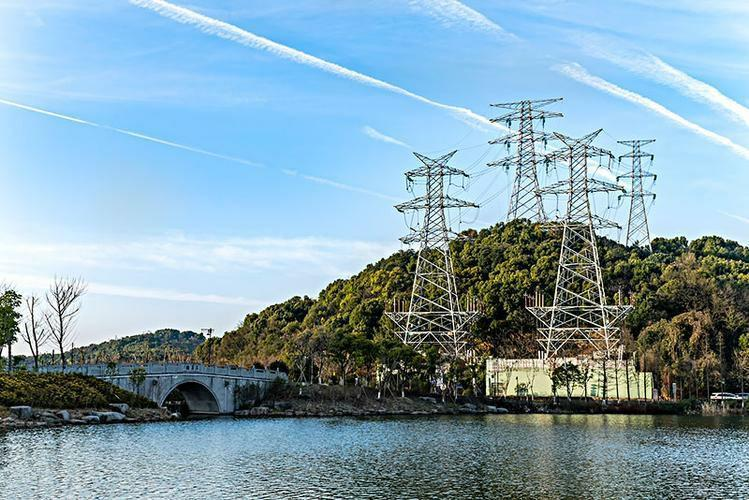power_tower: (542, 126, 625, 361), (389, 141, 476, 356), (612, 136, 663, 250), (481, 93, 522, 193)
